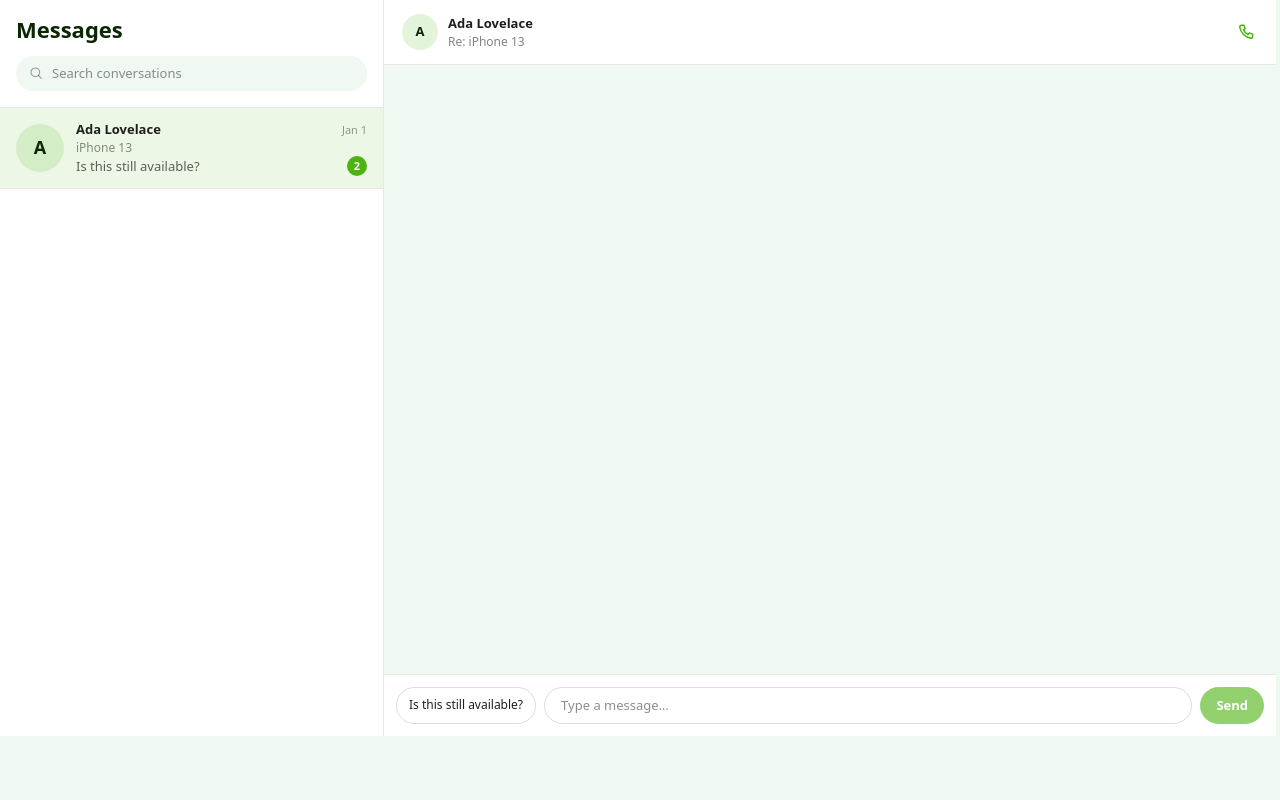
Test: MessagesPage call button › reveals the seller phone number on click
Check: the button "A Ada Lovelace Re: iPhone 13" is shown, box [396, 10, 1224, 54]
What coordinates should you click on to do the following:
click the button named "Call seller"
I would click on:
 (1246, 32)
Its box is [1228, 14, 1264, 50].
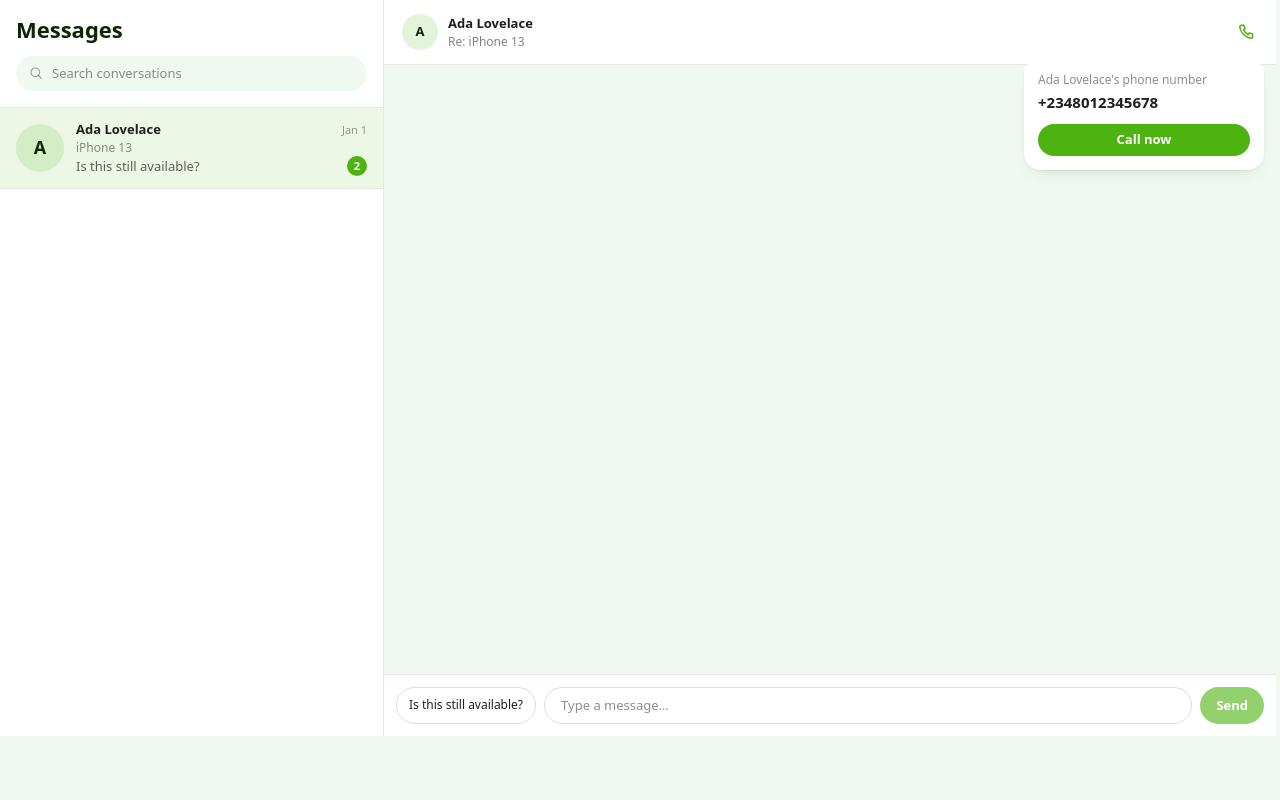
Check: the text "+2348012345678" is shown, box [1038, 92, 1158, 112]
